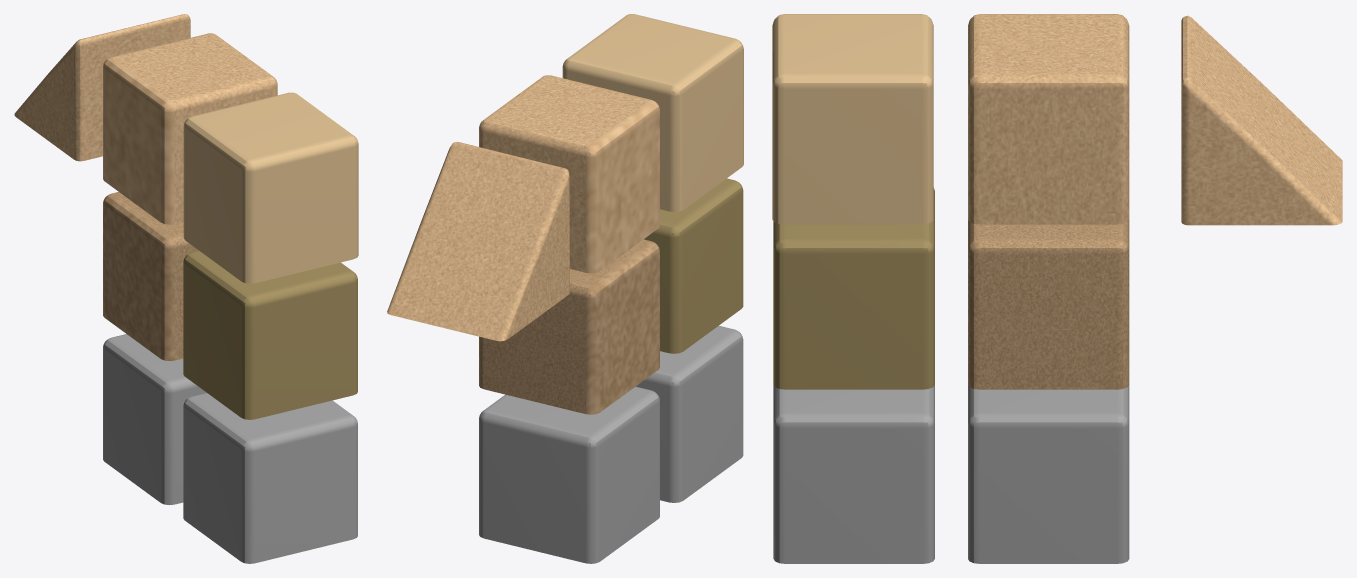
Rendered from sabaku_01.fbx.
3 renders of one model, left to right at view 1: azimuth 30°, elevation 25°; view 2: azimuth 150°, elevation 25°; view 3: azimuth 270°, elevation 25°, orthographic. The views are drawn at different scales.
Visible parts, largest first — view 1: pCube15, pCube19, pCube17, pCube1, pCube18, pCube16, pCube3; view 2: pCube3, pCube18, pCube1, pCube15, pCube16, pCube19, pCube17; view 3: pCube15, pCube1, pCube19, pCube18, pCube17, pCube16, pCube3.
Boxes of the visible parts, x1,y1,x2,y2 form: pCube15: (183, 92, 358, 283); pCube19: (183, 393, 357, 563); pCube17: (183, 250, 357, 419); pCube1: (103, 33, 277, 224); pCube18: (103, 334, 206, 505); pCube16: (103, 192, 198, 360); pCube3: (14, 14, 190, 161); pCube3: (387, 141, 569, 341); pCube18: (479, 386, 659, 563); pCube1: (479, 75, 659, 273); pCube15: (562, 14, 743, 211); pCube16: (479, 239, 659, 414); pCube19: (636, 325, 743, 502); pCube17: (644, 178, 743, 353); pCube15: (772, 14, 933, 224); pCube1: (968, 14, 1129, 224); pCube19: (773, 385, 934, 563); pCube18: (968, 385, 1129, 563); pCube17: (773, 187, 934, 389); pCube16: (968, 220, 1129, 389); pCube3: (1181, 15, 1342, 225).
Size of the model in its own units: 2 by 6.64 by 7.06.
Materials: 6 (3 with a texture image).
